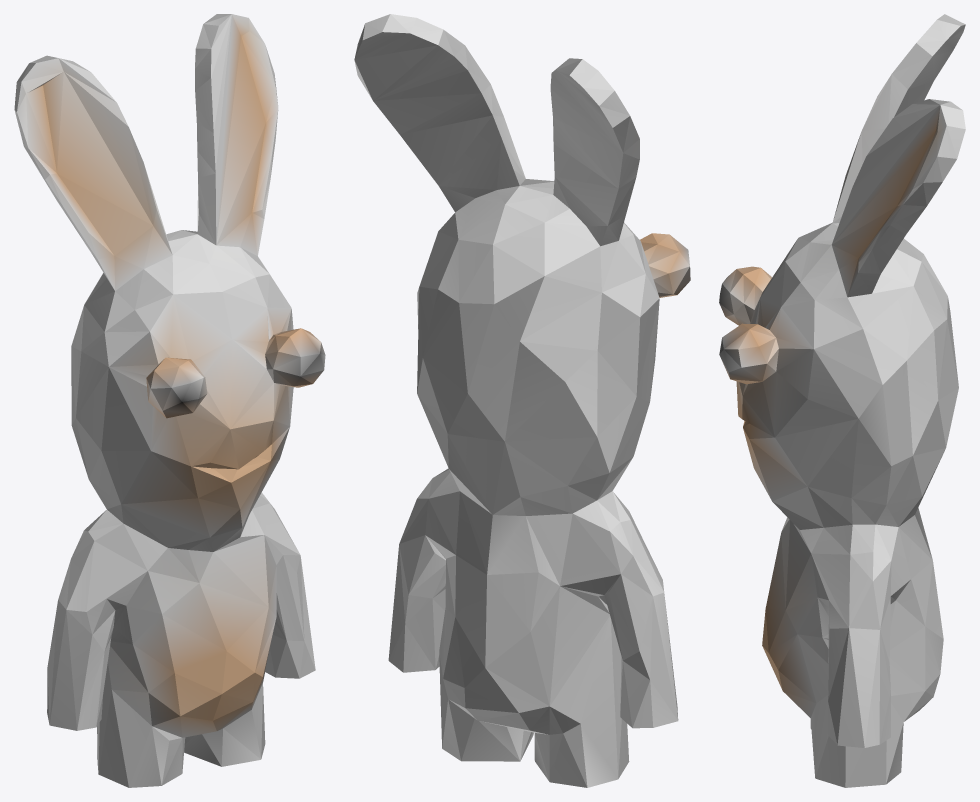
File: Rabbids.fbx
3 renders of one model, left to right at view 1: azimuth 30°, elevation 25°; view 2: azimuth 150°, elevation 25°; view 3: azimuth 270°, elevation 25°, orthographic. The views are drawn at different scales.
Parts seen in each view (by area): view 1: Merged_PM3D_Cylinder3D2; view 2: Merged_PM3D_Cylinder3D2; view 3: Merged_PM3D_Cylinder3D2.
Boxes of the visible parts, x1,y1,x2,y2 form: Merged_PM3D_Cylinder3D2: (14,14,325,787); Merged_PM3D_Cylinder3D2: (354,14,690,787); Merged_PM3D_Cylinder3D2: (719,14,965,787).
Bounding box in the file's own units: 3.85 × 9.7 × 3.14.
